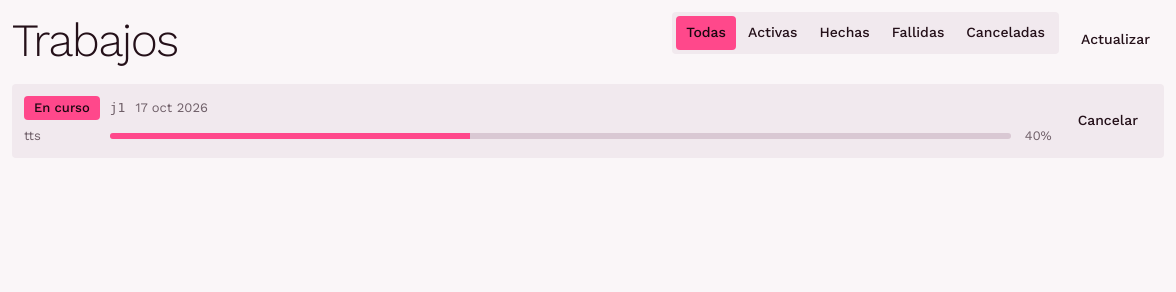
Scenario: JobsPage retry options and error handling (F8/F9) › reports a cancel failure instead of an unhandled rejection and stays usable (F9)
This screenshot has width=1176, height=292.
Click the button "Cancelar" at (1108, 121), box [1064,102,1152,140]
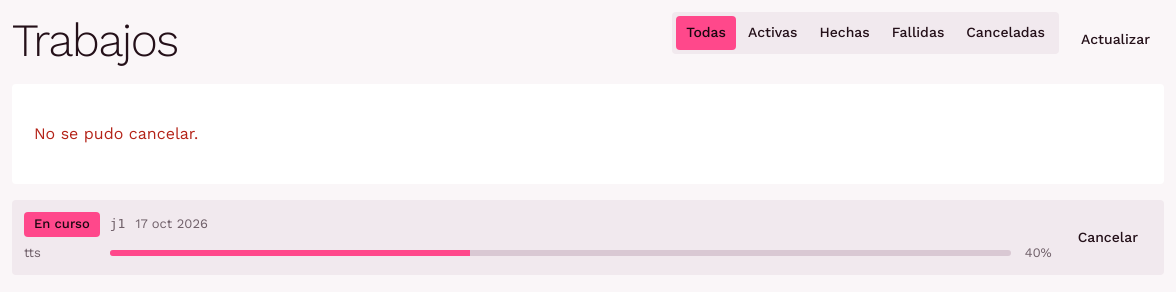
Expected: the button "Cancelar" is enabled, [1064,219,1152,256]
Expected: the text "No se pudo cancelar." is shown, [34,122,198,146]
